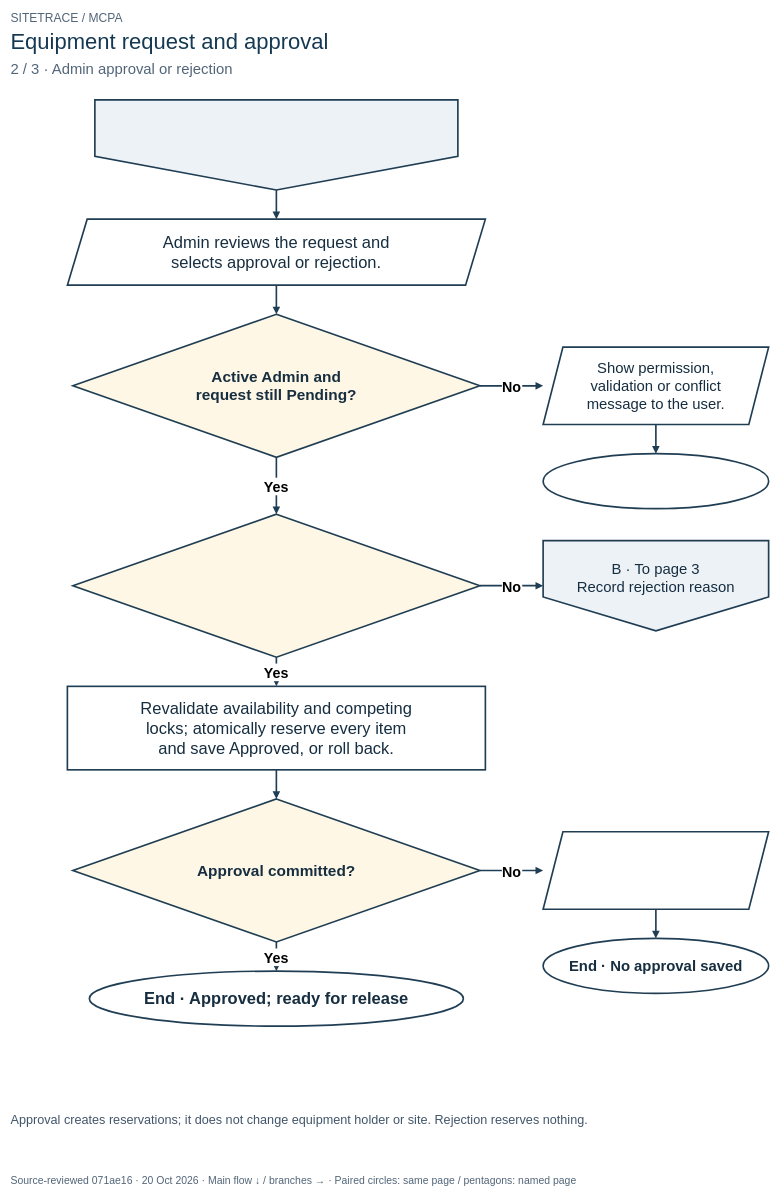
Some shapes in this 779 by 1198 pixel diagram are drawn without their labels. The shapes that lost their labels are listed below. From the top down, each one's centre as x and y in pixels, then its label:
At [276,145]: "A · From page 1 Pending request".
At [655,481]: "End · No change saved".
At [276,585]: "Approve request?".
At [655,870]: "Show conflict / error; refresh the request and inventory.".
